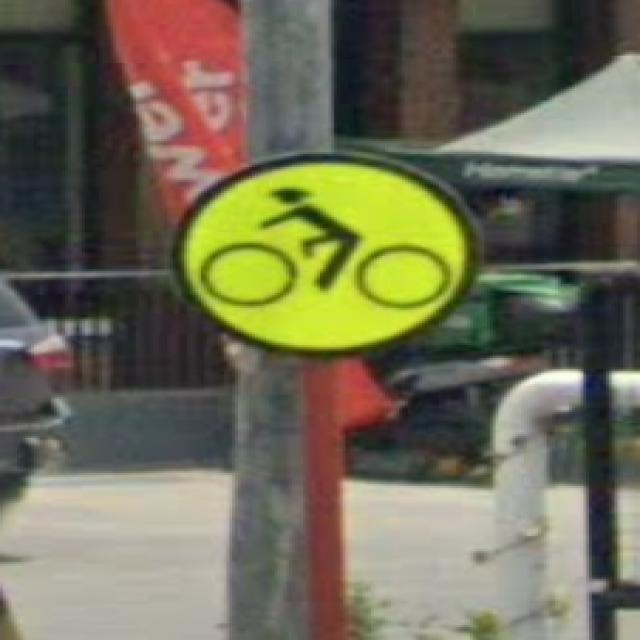bike lane: (173, 152, 476, 356)
